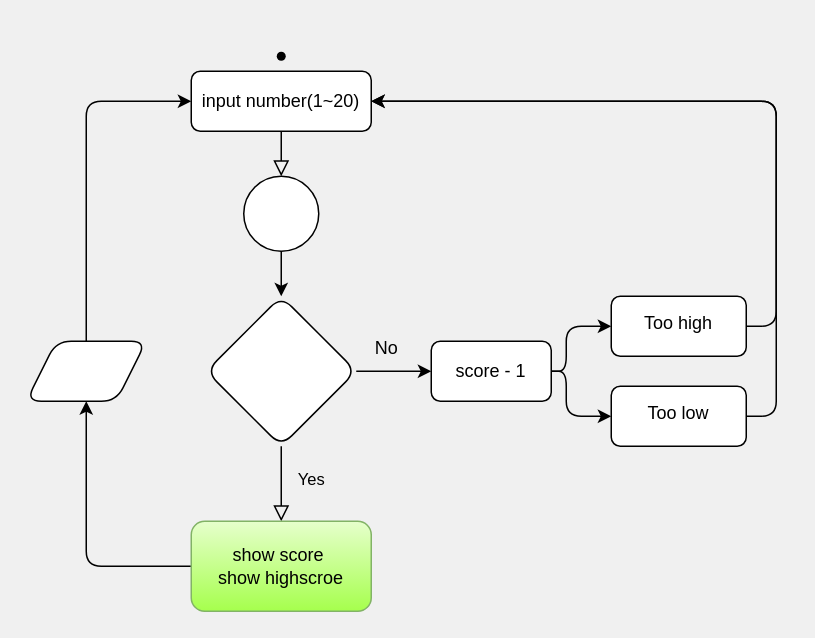
Some shapes in this 815 by 638 pixel diagram are drawn without their labels. The box of each missing label's shape, as (x1, y1, x2, y2) in pixels:
Again: (25, 340, 146, 401)
check: (242, 175, 319, 251)
match: (205, 295, 356, 446)
